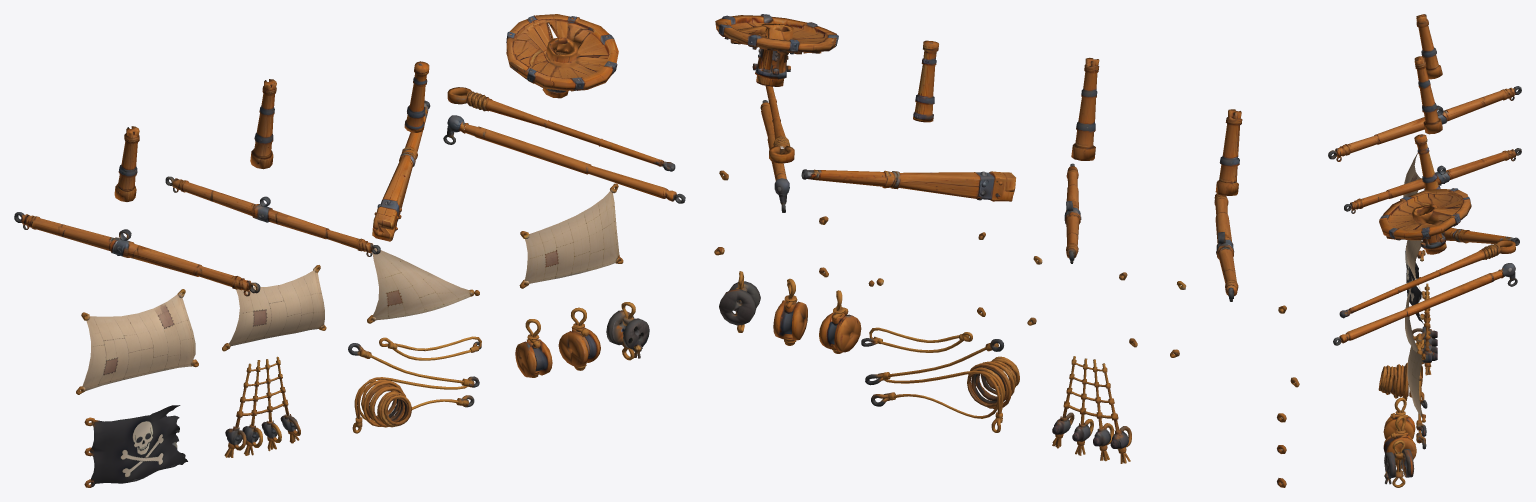
File: rigging.glb
The picture shows the model from 3 angles, left to right: view 1: azimuth 30°, elevation 25°; view 2: azimuth 150°, elevation 25°; view 3: azimuth 270°, elevation 25°; orthographic projection. The views are drawn at different scales.
Parts seen in each view (by area): view 1: d5091f6b_e3b4_4d9f_b1a4_c57cc63f40ae; view 2: d5091f6b_e3b4_4d9f_b1a4_c57cc63f40ae; view 3: d5091f6b_e3b4_4d9f_b1a4_c57cc63f40ae.
Part boxes in pixels (x1,y1,x2,y2): d5091f6b_e3b4_4d9f_b1a4_c57cc63f40ae: (14, 14, 685, 487); d5091f6b_e3b4_4d9f_b1a4_c57cc63f40ae: (714, 14, 1299, 487); d5091f6b_e3b4_4d9f_b1a4_c57cc63f40ae: (1328, 14, 1521, 487).
Size of the model in its own units: 0.9995 by 0.6436 by 0.3647.
Materials: 1 (1 with a texture image).
